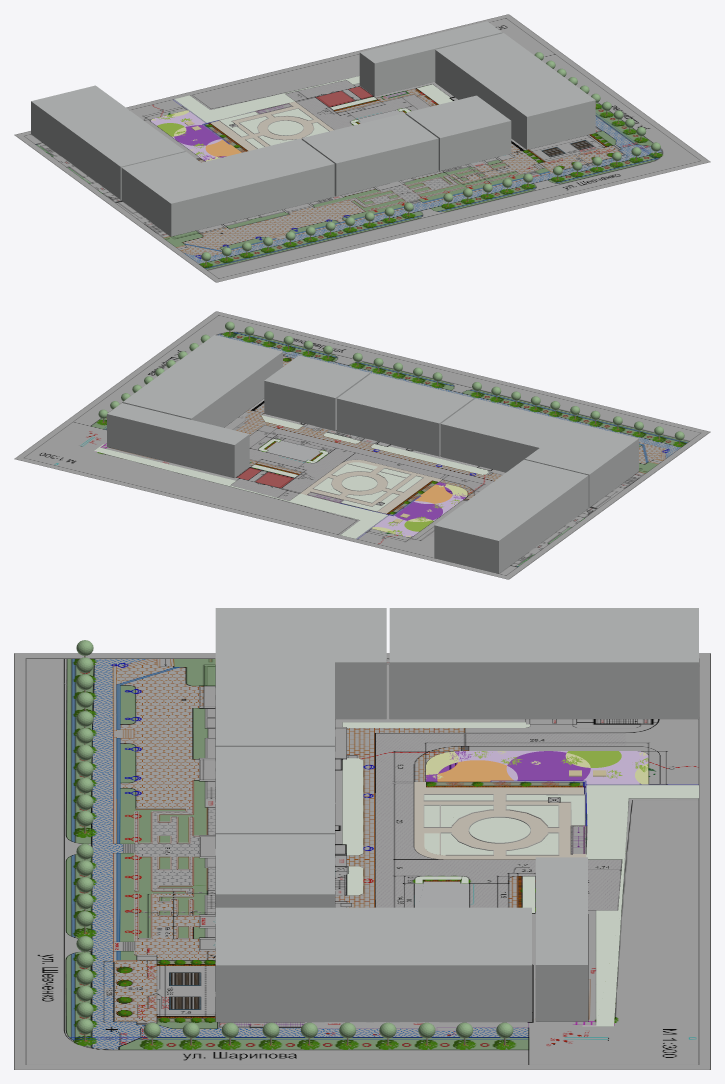
The model's file is palladium_reconstruction_02.glb.
3 renders of one model, top to bottom at view 1: azimuth 30°, elevation 25°; view 2: azimuth 150°, elevation 25°; view 3: azimuth 270°, elevation 25°, orthographic. The views are drawn at different scales.
Visible parts, largest first — view 1: REFERENCE_PDF_NOT_GEOMETRY, BUILDING_02_01_ENVELOPE_HEIGHT_8M_CONDITIONAL, BUILDING_06_01_ENVELOPE_HEIGHT_8M_CONDITIONAL, BUILDING_01_01_ENVELOPE_HEIGHT_8M_CONDITIONAL, BUILDING_03_01_ENVELOPE_HEIGHT_8M_CONDITIONAL, BUILDING_04_01_ENVELOPE_HEIGHT_8M_CONDITIONAL, BUILDING_05_01_ENVELOPE_HEIGHT_8M_CONDITIONAL, PDF_FILL_GREEN_FILL_MATERIAL_UNCONFIRMED, CENTRAL_PAVING_PART_01_CONDITIONAL, PDF_FILL_PLAY_LILAC_MATERIAL_UNCONFIRMED, PDF_FILL_PLAY_PURPLE_MATERIAL_UNCONFIRMED; view 2: REFERENCE_PDF_NOT_GEOMETRY, BUILDING_02_01_ENVELOPE_HEIGHT_8M_CONDITIONAL, BUILDING_01_01_ENVELOPE_HEIGHT_8M_CONDITIONAL, BUILDING_06_01_ENVELOPE_HEIGHT_8M_CONDITIONAL, BUILDING_03_01_ENVELOPE_HEIGHT_8M_CONDITIONAL, BUILDING_05_01_ENVELOPE_HEIGHT_8M_CONDITIONAL, PDF_FILL_GREEN_FILL_MATERIAL_UNCONFIRMED, BUILDING_04_01_ENVELOPE_HEIGHT_8M_CONDITIONAL, CENTRAL_PAVING_PART_01_CONDITIONAL, PDF_FILL_PLAY_PURPLE_MATERIAL_UNCONFIRMED, PDF_FILL_PLAY_LILAC_MATERIAL_UNCONFIRMED, PDF_FILL_RIGHT_GREY_MATERIAL_UNCONFIRMED (+1 smaller); view 3: REFERENCE_PDF_NOT_GEOMETRY, BUILDING_06_01_ENVELOPE_HEIGHT_8M_CONDITIONAL, BUILDING_01_01_ENVELOPE_HEIGHT_8M_CONDITIONAL, BUILDING_02_01_ENVELOPE_HEIGHT_8M_CONDITIONAL, PDF_FILL_GREEN_FILL_MATERIAL_UNCONFIRMED, BUILDING_03_01_ENVELOPE_HEIGHT_8M_CONDITIONAL, BUILDING_04_01_ENVELOPE_HEIGHT_8M_CONDITIONAL, BUILDING_05_01_ENVELOPE_HEIGHT_8M_CONDITIONAL, CENTRAL_PAVING_PART_01_CONDITIONAL, PDF_FILL_PLAY_LILAC_MATERIAL_UNCONFIRMED, PDF_FILL_PLAY_PURPLE_MATERIAL_UNCONFIRMED, PDF_FILL_RIGHT_GREY_MATERIAL_UNCONFIRMED (+3 smaller).
Part boxes in pixels (left/top/right/bottom): REFERENCE_PDF_NOT_GEOMETRY: left=14, top=14, right=710, bottom=282; BUILDING_02_01_ENVELOPE_HEIGHT_8M_CONDITIONAL: left=121, top=138, right=334, bottom=236; BUILDING_06_01_ENVELOPE_HEIGHT_8M_CONDITIONAL: left=435, top=33, right=595, bottom=149; BUILDING_01_01_ENVELOPE_HEIGHT_8M_CONDITIONAL: left=31, top=85, right=185, bottom=199; BUILDING_03_01_ENVELOPE_HEIGHT_8M_CONDITIONAL: left=301, top=113, right=438, bottom=196; BUILDING_04_01_ENVELOPE_HEIGHT_8M_CONDITIONAL: left=405, top=95, right=511, bottom=170; BUILDING_05_01_ENVELOPE_HEIGHT_8M_CONDITIONAL: left=359, top=21, right=502, bottom=96; PDF_FILL_GREEN_FILL_MATERIAL_UNCONFIRMED: left=174, top=76, right=452, bottom=148; CENTRAL_PAVING_PART_01_CONDITIONAL: left=210, top=101, right=333, bottom=150; PDF_FILL_PLAY_LILAC_MATERIAL_UNCONFIRMED: left=151, top=112, right=221, bottom=160; PDF_FILL_PLAY_PURPLE_MATERIAL_UNCONFIRMED: left=174, top=125, right=225, bottom=160; REFERENCE_PDF_NOT_GEOMETRY: left=14, top=311, right=710, bottom=579; BUILDING_02_01_ENVELOPE_HEIGHT_8M_CONDITIONAL: left=440, top=398, right=638, bottom=507; BUILDING_01_01_ENVELOPE_HEIGHT_8M_CONDITIONAL: left=434, top=459, right=588, bottom=573; BUILDING_06_01_ENVELOPE_HEIGHT_8M_CONDITIONAL: left=122, top=335, right=282, bottom=427; BUILDING_03_01_ENVELOPE_HEIGHT_8M_CONDITIONAL: left=337, top=373, right=473, bottom=456; BUILDING_05_01_ENVELOPE_HEIGHT_8M_CONDITIONAL: left=107, top=403, right=249, bottom=477; PDF_FILL_GREEN_FILL_MATERIAL_UNCONFIRMED: left=94, top=415, right=488, bottom=538; BUILDING_04_01_ENVELOPE_HEIGHT_8M_CONDITIONAL: left=264, top=355, right=369, bottom=430; CENTRAL_PAVING_PART_01_CONDITIONAL: left=300, top=460, right=441, bottom=513; PDF_FILL_PLAY_PURPLE_MATERIAL_UNCONFIRMED: left=395, top=482, right=465, bottom=520; PDF_FILL_PLAY_LILAC_MATERIAL_UNCONFIRMED: left=374, top=494, right=466, bottom=536; PDF_FILL_RIGHT_GREY_MATERIAL_UNCONFIRMED: left=266, top=440, right=320, bottom=461; REFERENCE_PDF_NOT_GEOMETRY: left=14, top=653, right=710, bottom=1069; BUILDING_06_01_ENVELOPE_HEIGHT_8M_CONDITIONAL: left=215, top=907, right=531, bottom=1021; BUILDING_01_01_ENVELOPE_HEIGHT_8M_CONDITIONAL: left=389, top=608, right=698, bottom=718; BUILDING_02_01_ENVELOPE_HEIGHT_8M_CONDITIONAL: left=215, top=608, right=386, bottom=746; PDF_FILL_GREEN_FILL_MATERIAL_UNCONFIRMED: left=342, top=722, right=698, bottom=1026; BUILDING_03_01_ENVELOPE_HEIGHT_8M_CONDITIONAL: left=215, top=747, right=334, bottom=834; BUILDING_04_01_ENVELOPE_HEIGHT_8M_CONDITIONAL: left=215, top=834, right=334, bottom=907; BUILDING_05_01_ENVELOPE_HEIGHT_8M_CONDITIONAL: left=535, top=857, right=587, bottom=1021; CENTRAL_PAVING_PART_01_CONDITIONAL: left=414, top=782, right=586, bottom=859; PDF_FILL_PLAY_LILAC_MATERIAL_UNCONFIRMED: left=454, top=751, right=648, bottom=784; PDF_FILL_PLAY_PURPLE_MATERIAL_UNCONFIRMED: left=426, top=751, right=590, bottom=781; PDF_FILL_RIGHT_GREY_MATERIAL_UNCONFIRMED: left=415, top=881, right=468, bottom=907.
Bounding box in the file's own units: 126 × 8.02 × 89.15.
Materials: 1 (1 with a texture image).
